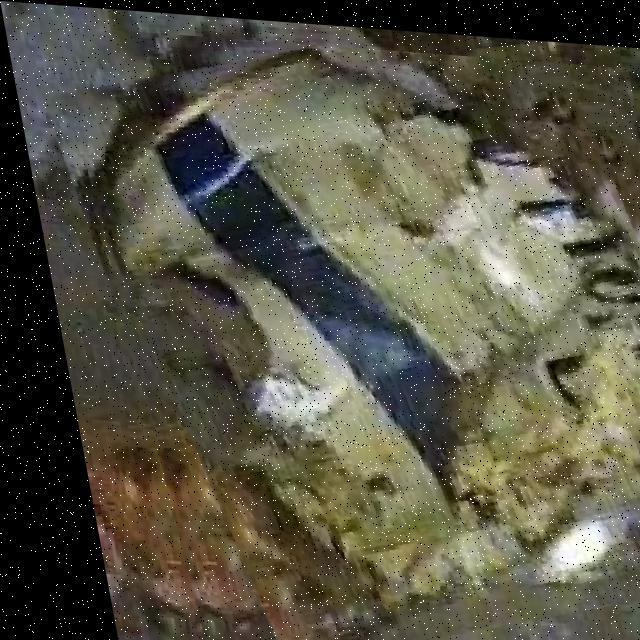litter: (50, 24, 640, 640)
